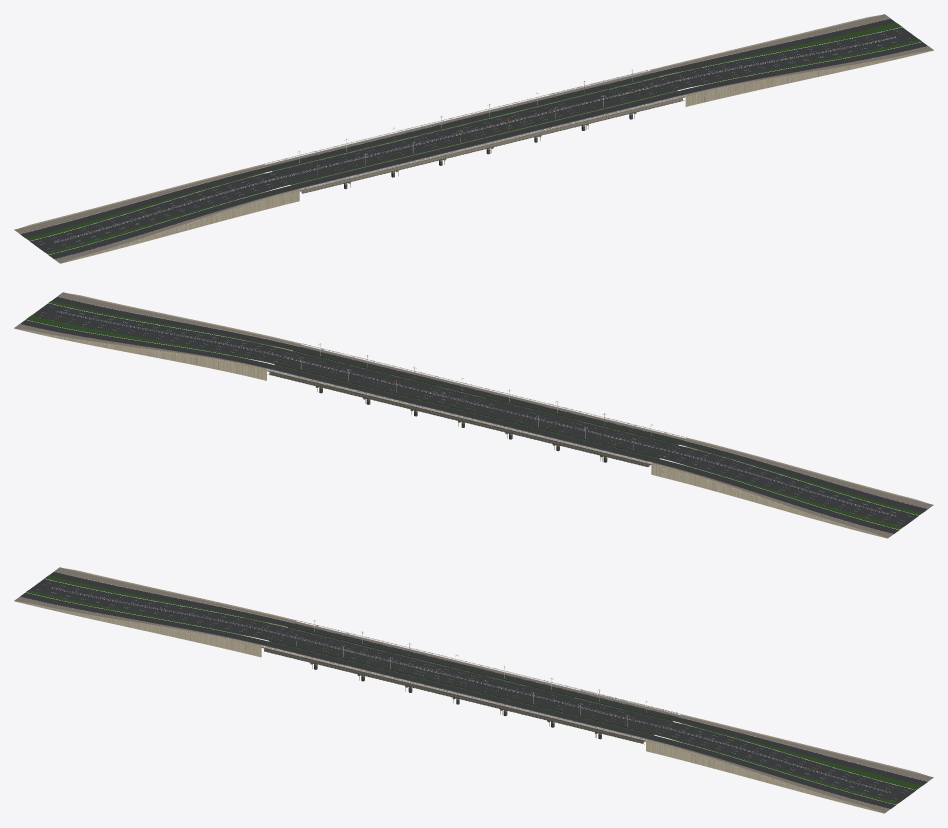
The picture shows the model from 3 angles, top to bottom: view 1: azimuth 30°, elevation 25°; view 2: azimuth 150°, elevation 25°; view 3: azimuth 330°, elevation 25°; orthographic projection.
Parts seen in each view (by area): view 1: NH_Bank_Asphalt, NH_Deck, NH_Bank_RetainingWalls, NH_Bank_Paving, NH_Bank_Separators, NH_Railing, NH_Fascia, NH_Central_Railing; view 2: NH_Bank_Asphalt, NH_Deck, NH_Bank_RetainingWalls, NH_Bank_Paving, NH_Bank_Separators, NH_Railing, NH_Fascia, NH_Central_Railing; view 3: NH_Bank_Asphalt, NH_Deck, NH_Bank_RetainingWalls, NH_Bank_Paving, NH_Bank_Separators, NH_Railing, NH_Fascia, NH_Central_Railing.
Boxes of the visible parts, box(x1,y1,x2,y2) form: NH_Bank_Asphalt: box(20, 18, 927, 259); NH_Deck: box(265, 71, 685, 191); NH_Bank_RetainingWalls: box(14, 14, 933, 263); NH_Bank_Paving: box(14, 14, 933, 263); NH_Bank_Separators: box(26, 22, 921, 254); NH_Railing: box(264, 69, 685, 190); NH_Fascia: box(302, 98, 684, 193); NH_Central_Railing: box(54, 36, 895, 243); NH_Bank_Asphalt: box(20, 296, 927, 533); NH_Deck: box(267, 345, 685, 464); NH_Bank_RetainingWalls: box(14, 293, 930, 538); NH_Bank_Paving: box(14, 292, 933, 537); NH_Bank_Separators: box(26, 300, 921, 529); NH_Railing: box(266, 343, 686, 463); NH_Fascia: box(268, 372, 648, 466); NH_Central_Railing: box(57, 311, 895, 516); NH_Bank_Asphalt: box(20, 572, 927, 808); NH_Deck: box(261, 621, 680, 741); NH_Bank_RetainingWalls: box(14, 568, 928, 813); NH_Bank_Paving: box(14, 567, 933, 812); NH_Bank_Separators: box(26, 575, 921, 804); NH_Railing: box(261, 620, 680, 740); NH_Fascia: box(264, 648, 644, 744); NH_Central_Railing: box(52, 587, 890, 793).
Bounding box in the file's own units: 644 × 18.91 × 62.74.
Materials: 23 (13 with a texture image).
